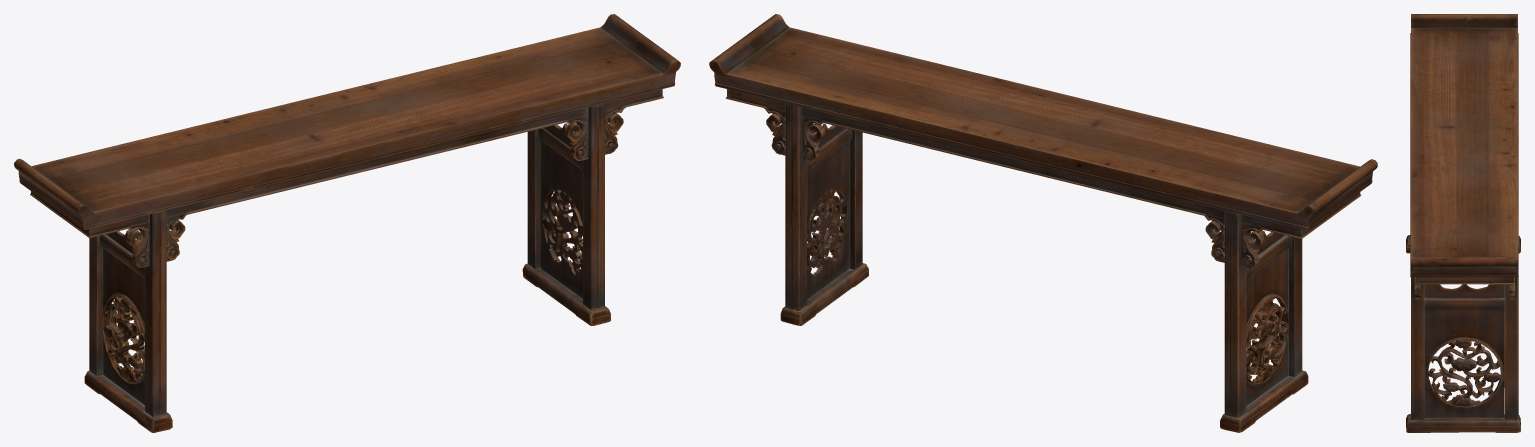
File: chinese_console_table.glb
The picture shows the model from 3 angles, left to right: view 1: azimuth 30°, elevation 25°; view 2: azimuth 150°, elevation 25°; view 3: azimuth 270°, elevation 25°; orthographic projection. The views are drawn at different scales.
Parts seen in each view (by area): view 1: chinese_console_table; view 2: chinese_console_table; view 3: chinese_console_table.
Part boxes in pixels (left/top/right/bottom): chinese_console_table: left=14, top=14, right=680, bottom=432; chinese_console_table: left=709, top=14, right=1377, bottom=432; chinese_console_table: left=1406, top=14, right=1520, bottom=432.
Bounding box in the file's own units: 1.72 × 0.6603 × 0.3386.
Materials: 1 (1 with a texture image).
